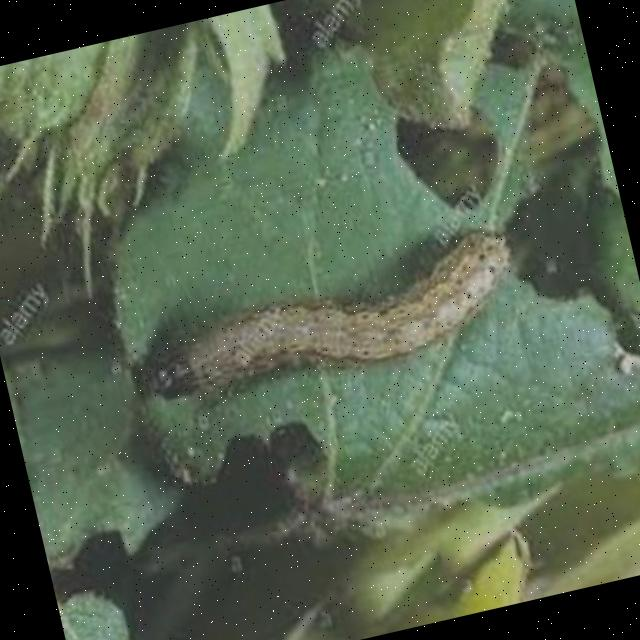worm: (108, 213, 540, 434)
